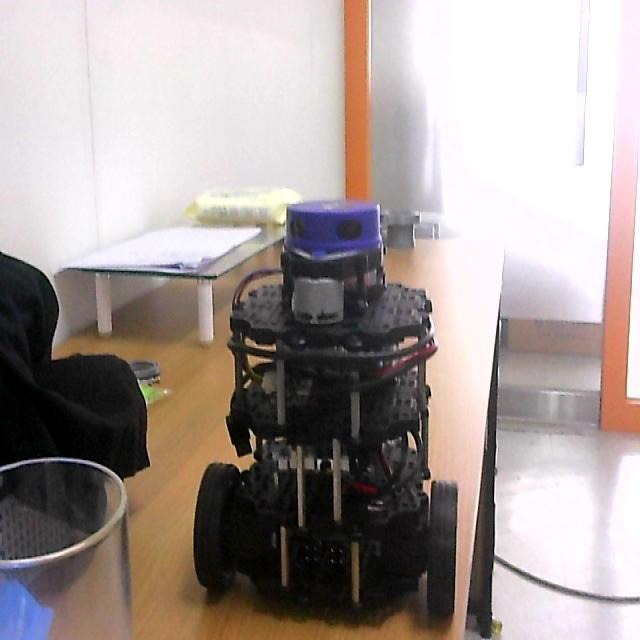turtle: (192, 196, 459, 632)
